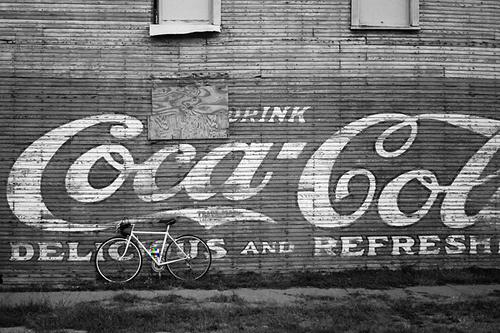car: (95, 215, 215, 291)
